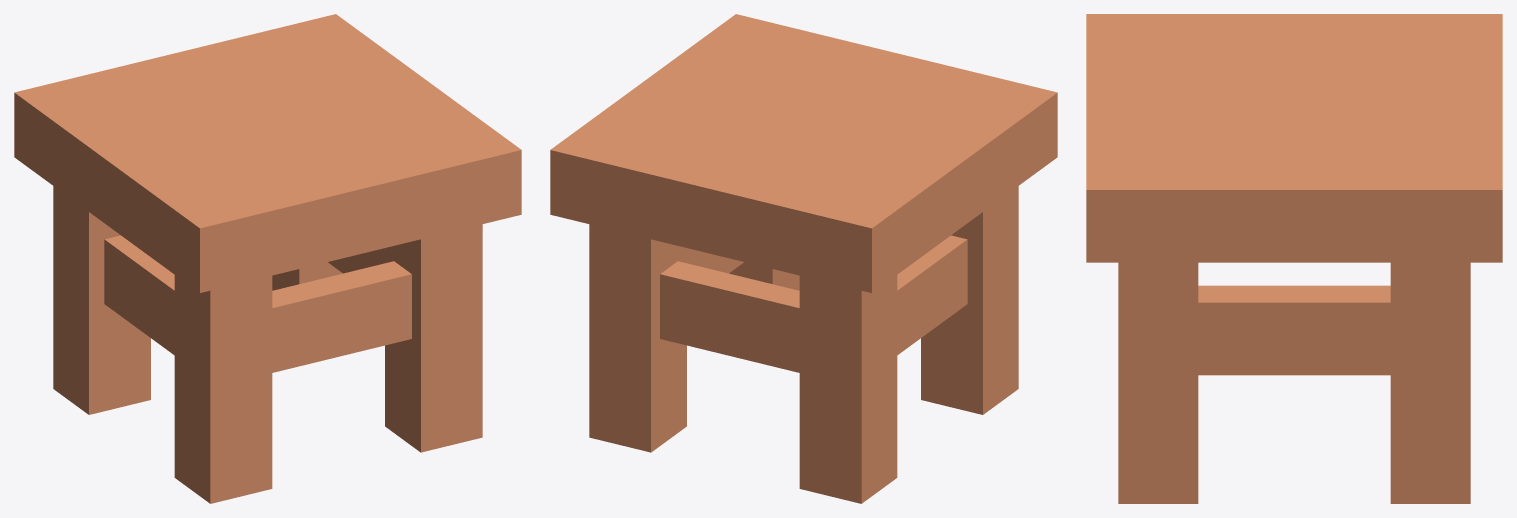
Rendered from stallStool.fbx.
3 renders of one model, left to right at view 1: azimuth 30°, elevation 25°; view 2: azimuth 150°, elevation 25°; view 3: azimuth 270°, elevation 25°, orthographic. The views are drawn at different scales.
Parts seen in each view (by area): view 1: stallStool; view 2: stallStool; view 3: stallStool.
Part boxes in pixels (left/top/right/bottom): stallStool: left=14, top=14, right=521, bottom=503; stallStool: left=550, top=14, right=1057, bottom=503; stallStool: left=1086, top=14, right=1502, bottom=503.
Bounding box in the file's own units: 2.6 × 2.26 × 2.6.
